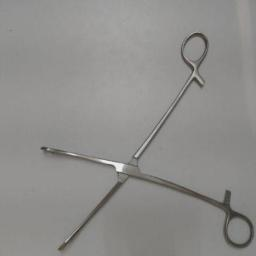Sponge Forceps: (31, 24, 255, 252)
